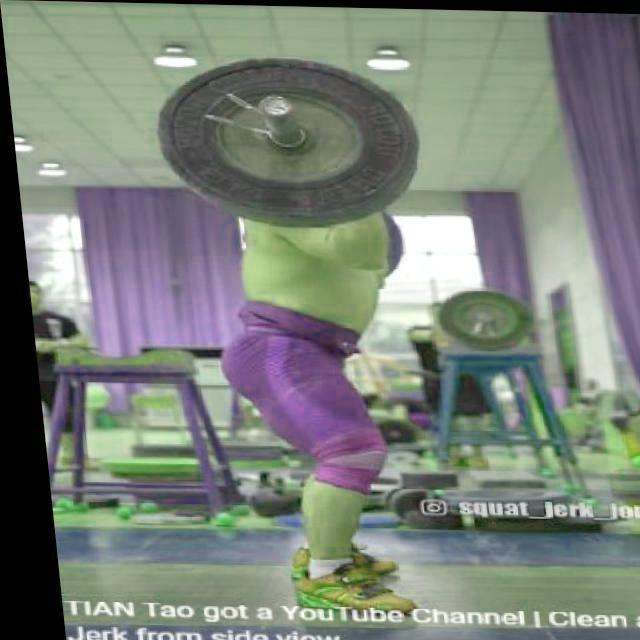barbell: (141, 45, 425, 232)
